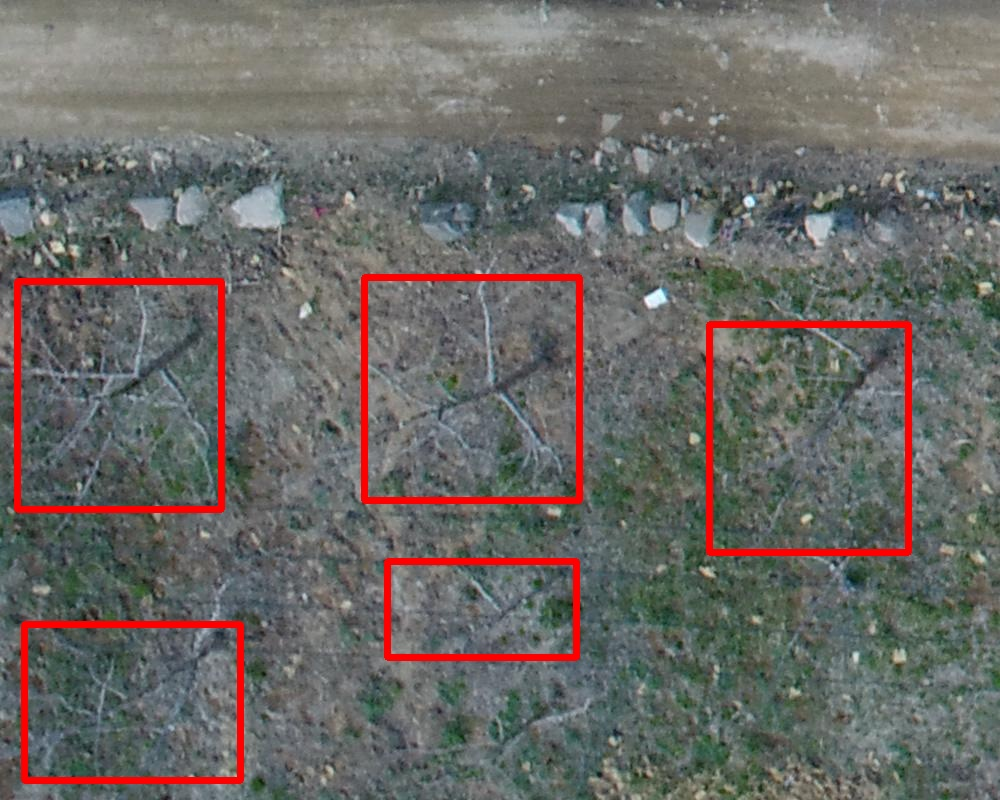apple: (364, 277, 579, 500), (17, 281, 221, 509), (709, 324, 908, 552), (24, 624, 240, 780), (387, 561, 576, 657)
